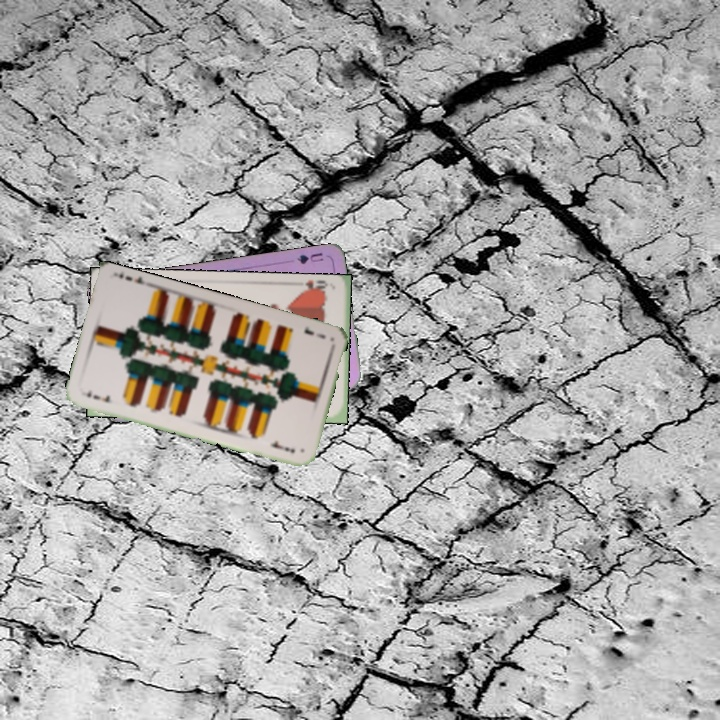E7: (82, 386, 116, 405), (300, 322, 328, 341)
GU: (293, 248, 326, 267)
HO: (296, 277, 331, 296)
